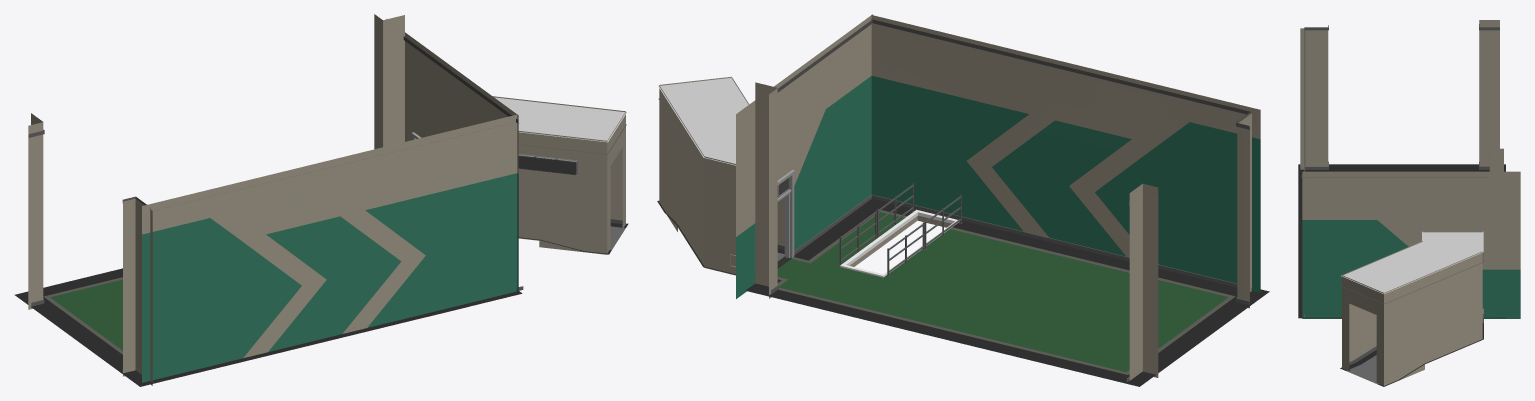
Rendered from SM_H_Building_Tide_MedicalRoom_27D_ATLAS.fbx.
The picture shows the model from 3 angles, left to right: view 1: azimuth 30°, elevation 25°; view 2: azimuth 150°, elevation 25°; view 3: azimuth 270°, elevation 25°; orthographic projection. The views are drawn at different scales.
Parts seen in each view (by area): view 1: SM_H_Building_Tide_MedicalRoom_27D_ATLAS; view 2: SM_H_Building_Tide_MedicalRoom_27D_ATLAS; view 3: SM_H_Building_Tide_MedicalRoom_27D_ATLAS.
Part boxes in pixels (x1,y1,x2,y2): SM_H_Building_Tide_MedicalRoom_27D_ATLAS: [14, 14, 628, 386]; SM_H_Building_Tide_MedicalRoom_27D_ATLAS: [657, 14, 1269, 386]; SM_H_Building_Tide_MedicalRoom_27D_ATLAS: [1298, 20, 1520, 386].
Size of the model in its own units: 2242 by 965 by 797.
